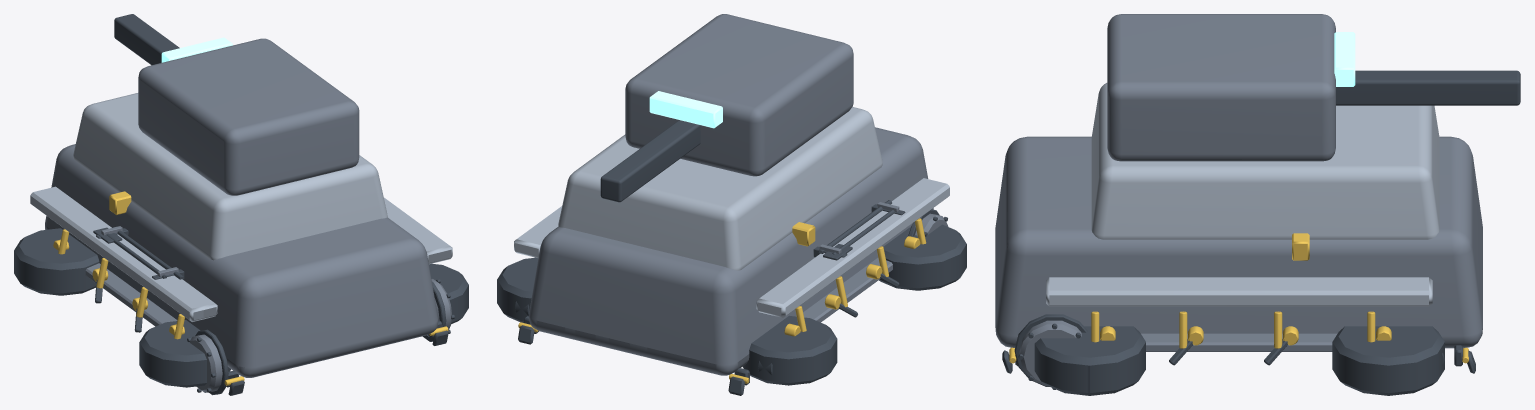
The model's file is ScoutTank_Atlas.fbx.
3 views of the same model, side by side, from view 1: azimuth 30°, elevation 25°; view 2: azimuth 150°, elevation 25°; view 3: azimuth 270°, elevation 25° (orthographic). The views are drawn at different scales.
Parts seen in each view (by area): view 1: ScoutTank_UnifiedMesh; view 2: ScoutTank_UnifiedMesh; view 3: ScoutTank_UnifiedMesh.
Part boxes in pixels (left/top/right/bottom): ScoutTank_UnifiedMesh: left=14, top=14, right=468, bottom=395; ScoutTank_UnifiedMesh: left=497, top=14, right=966, bottom=395; ScoutTank_UnifiedMesh: left=995, top=14, right=1520, bottom=395.
Bounding box in the file's own units: 248 × 172 × 299.
Materials: 1 (1 with a texture image).
